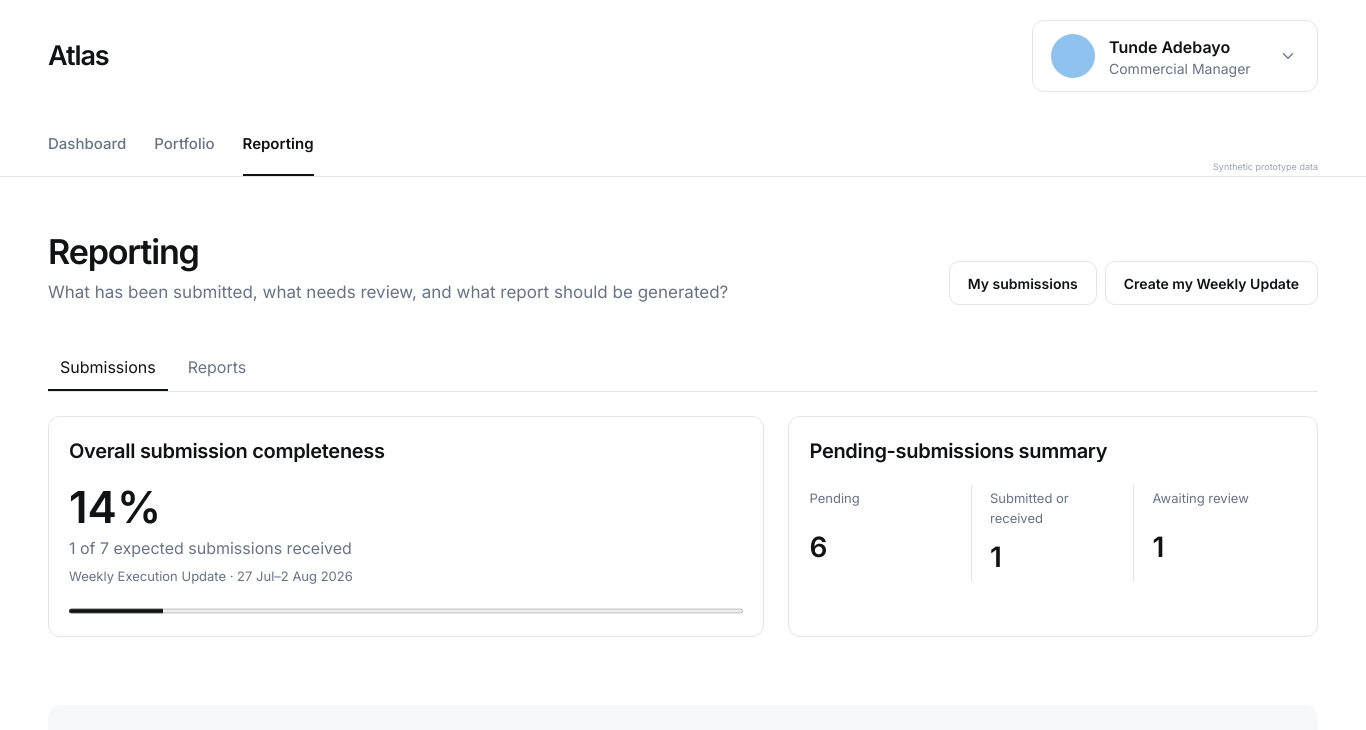
Test: route architecture › keeps a Commercial Manager draft private while listing it in My submissions
The width and height of the screenshot is (1366, 730).
Click the button "Create my Weekly Update" at [1211, 283], box [1105,261,1318,305]
(page scrolled)
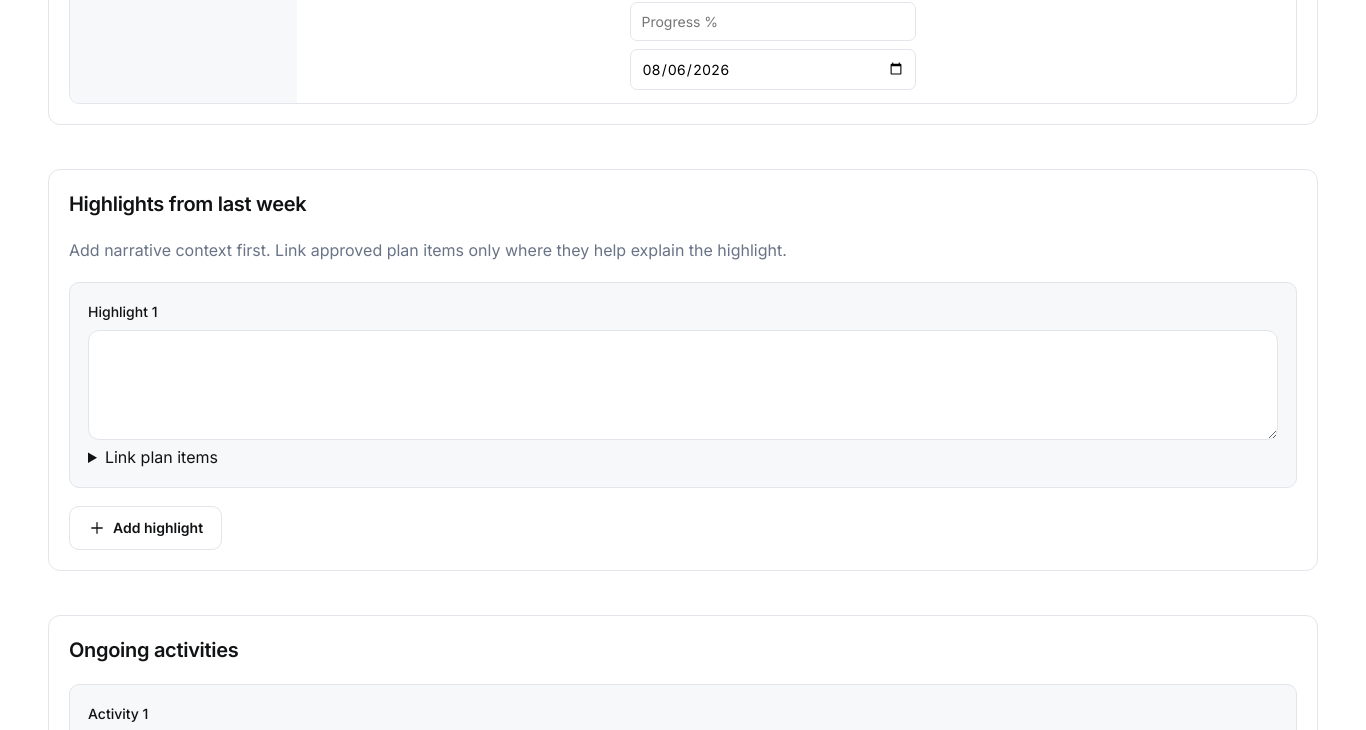
Type "Commercial close-out reached 92% this week." into the text box labelled "Highlight 1" at [683, 385], box [88,330,1278,440]
(page scrolled)
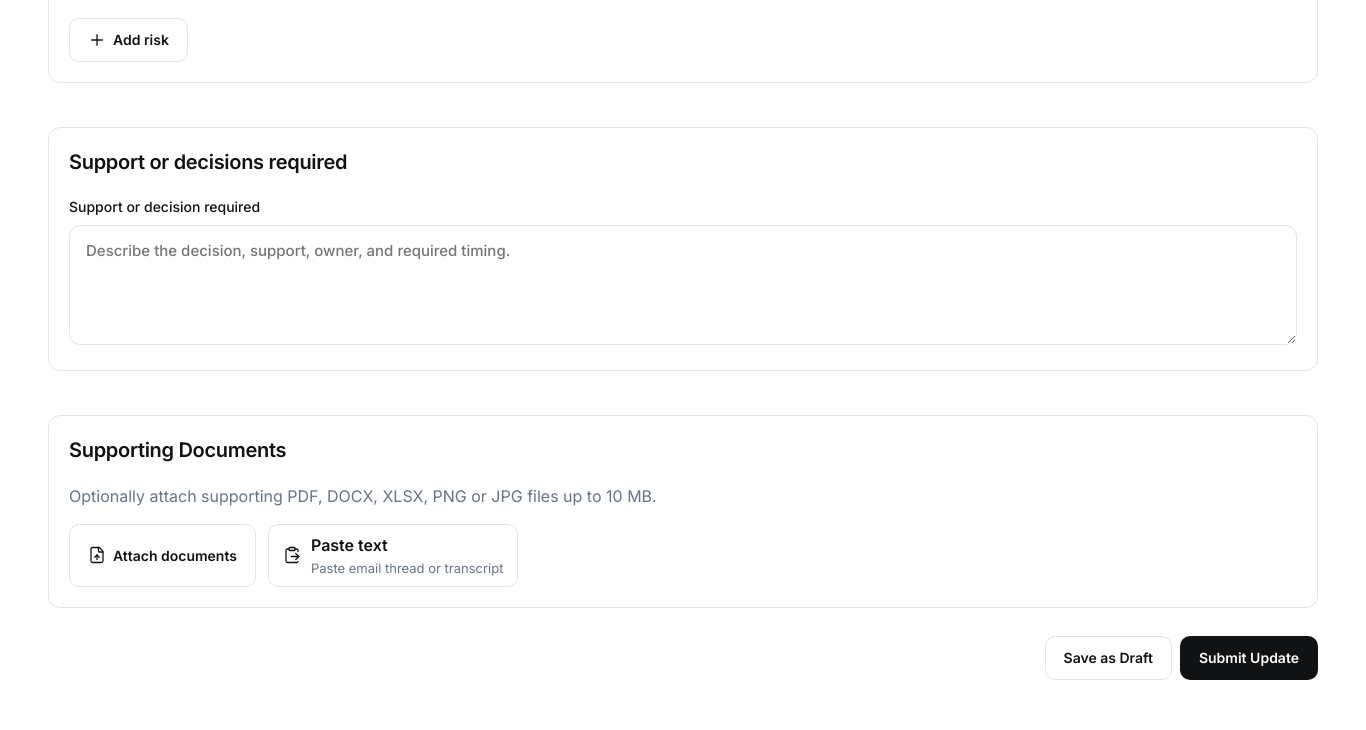
Click the button "Save as Draft" at [1108, 658], box [1045,636,1172,680]
(page scrolled)
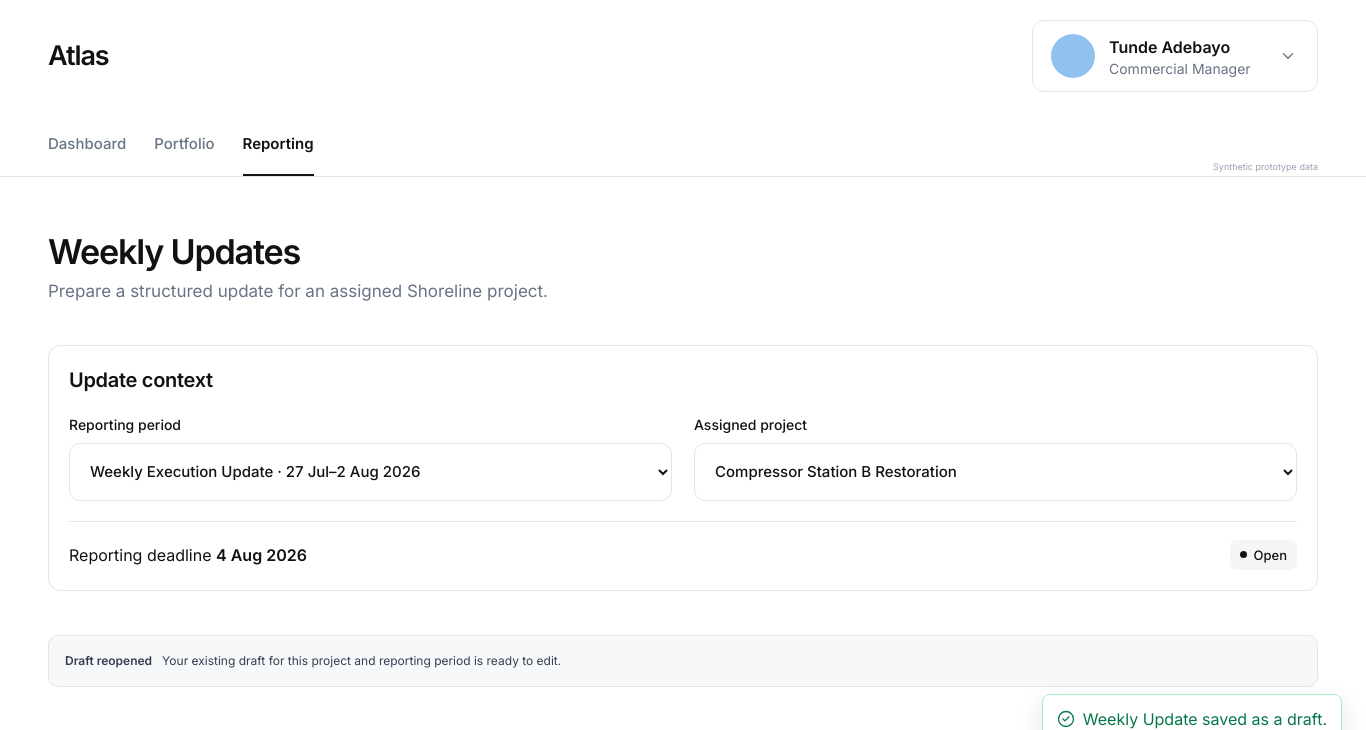
Click the link "Reporting" at [278, 144], box [242,112,314,176]
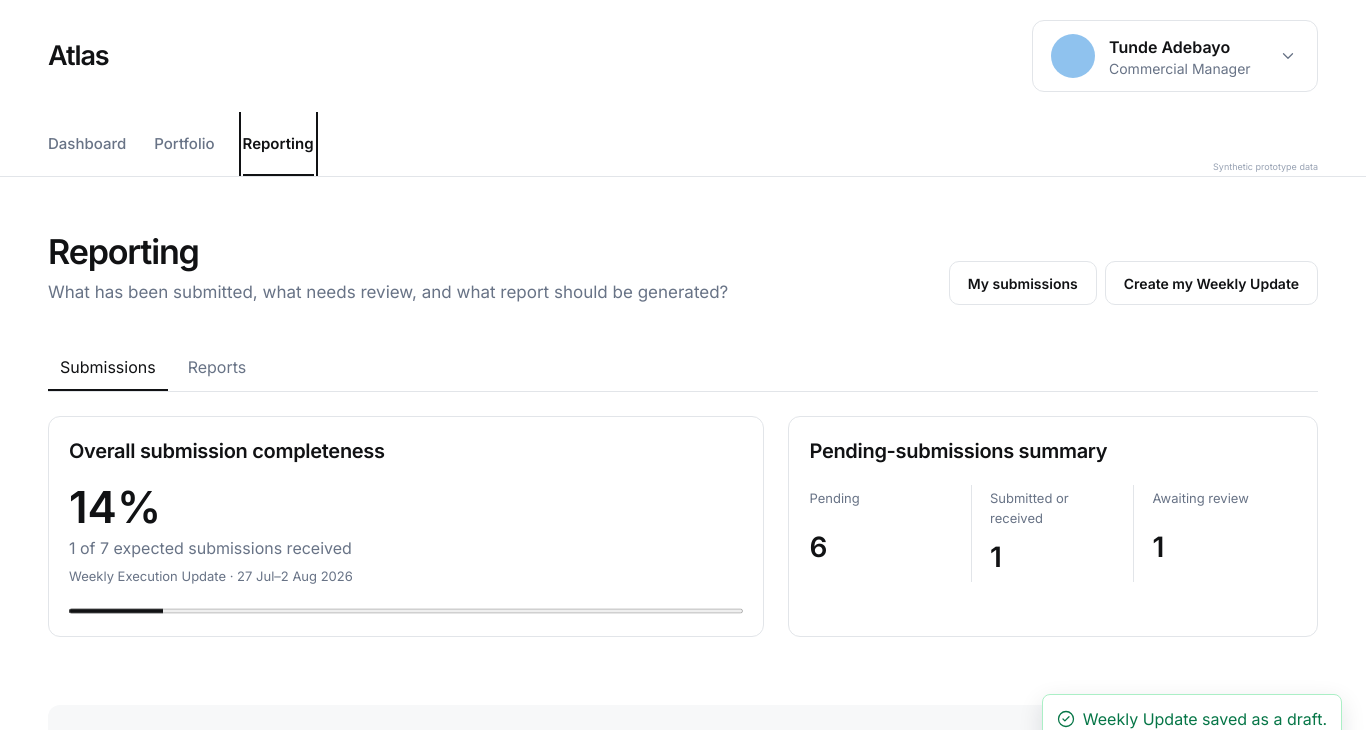
Click the button "My submissions" at [1023, 283], box [949,261,1097,305]
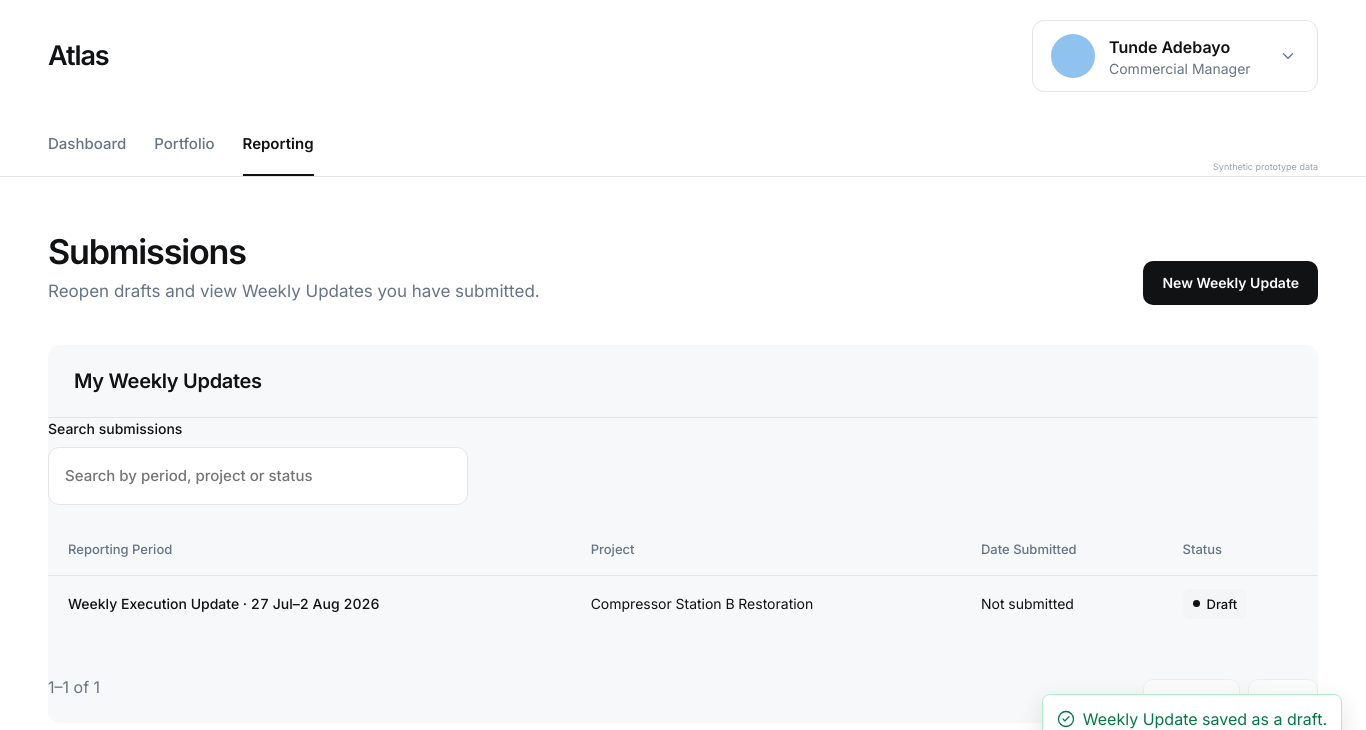
Now the text "Draft" is shown, box [1182,588,1247,618]
Now the text "Not submitted" is shown, box [961,575,1162,631]
Click the row named "Not submitted Draft" at [683, 603], box [48,575,1318,631]
(page scrolled)
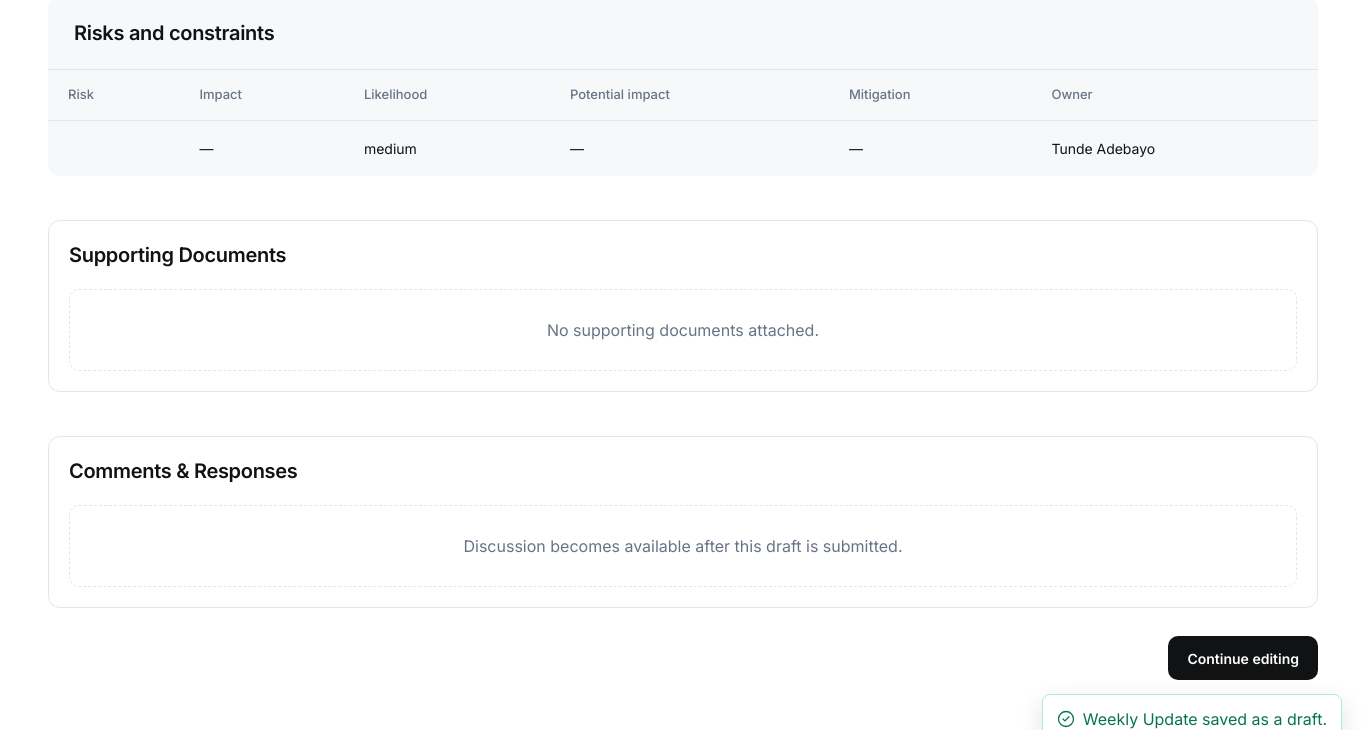
Now the text "Discussion becomes available after this draft is submitted." is shown, box [69,505,1297,587]
